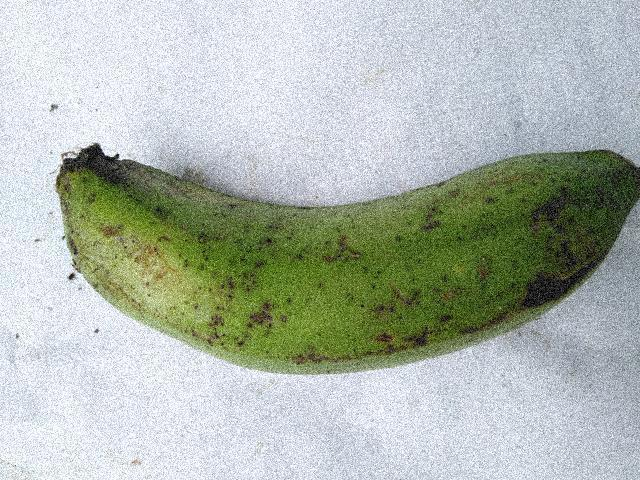unripe: (47, 111, 639, 394)
